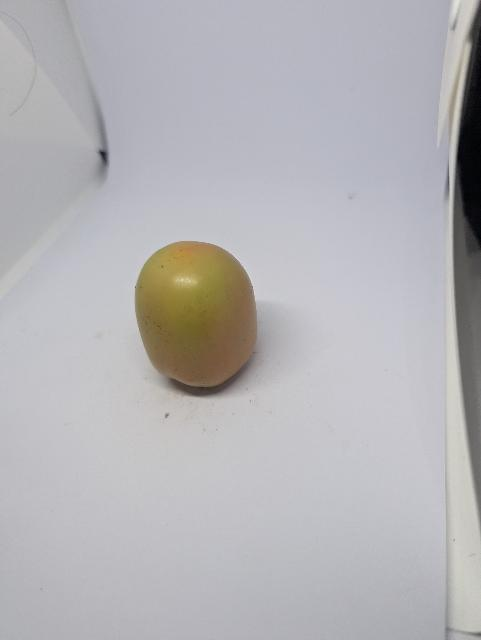breaker: (131, 236, 266, 397)
